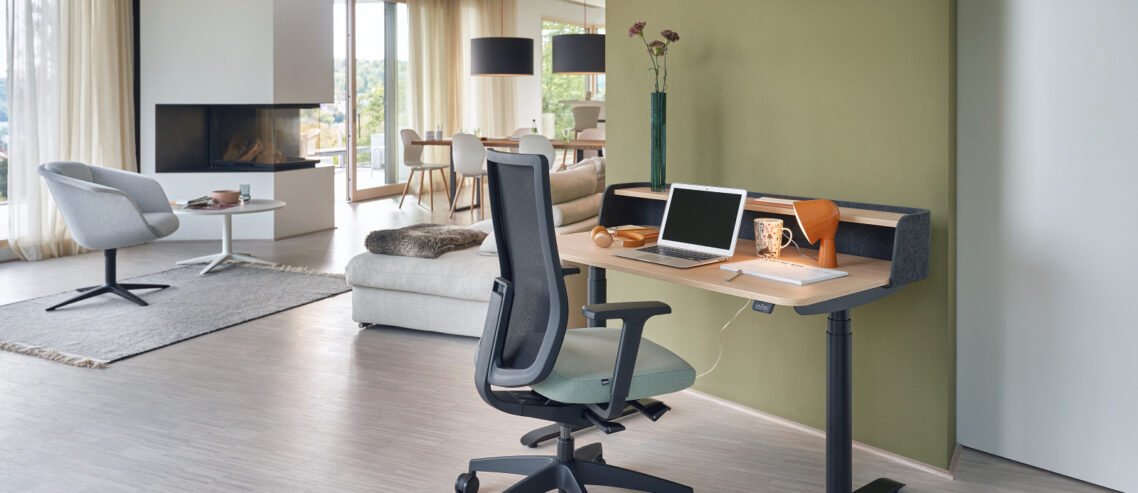not a gesture sign: (454, 151, 694, 492)
